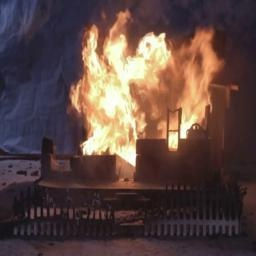fire: (67, 14, 215, 151)
